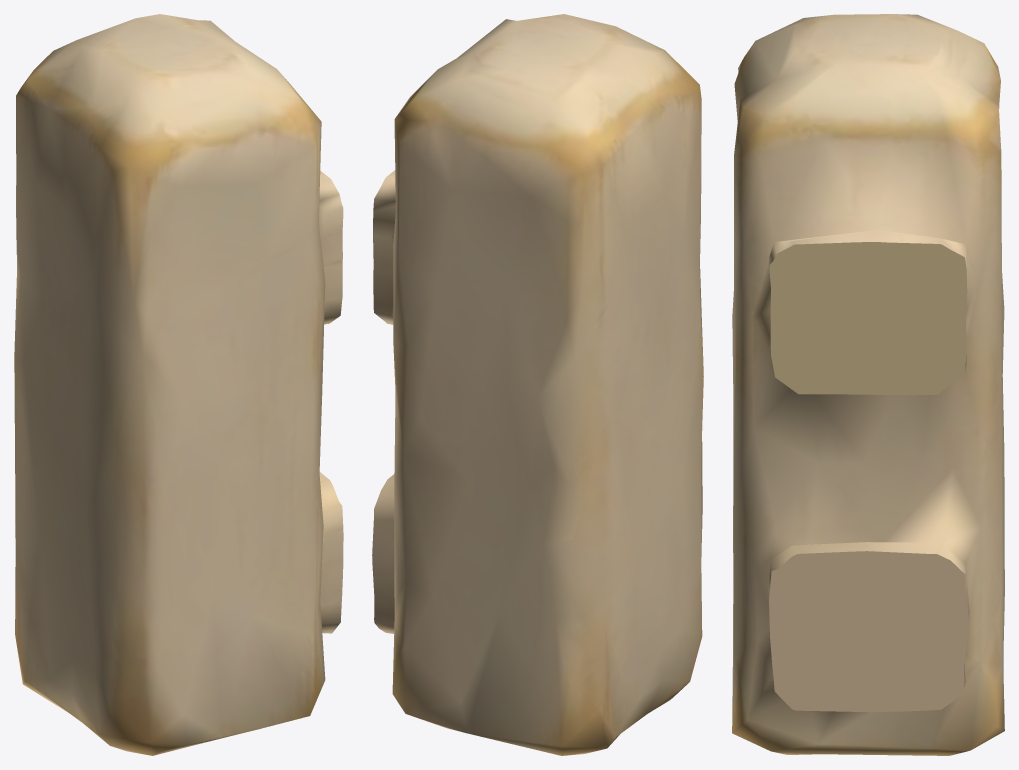
Rendered from fence-post.glb.
The picture shows the model from 3 angles, left to right: view 1: azimuth 30°, elevation 25°; view 2: azimuth 150°, elevation 25°; view 3: azimuth 270°, elevation 25°; orthographic projection. The views are drawn at different scales.
Visible parts, largest first — view 1: tripo_node_55770d52-07b5-4ddc-9917-7e2108ed7f3b; view 2: tripo_node_55770d52-07b5-4ddc-9917-7e2108ed7f3b; view 3: tripo_node_55770d52-07b5-4ddc-9917-7e2108ed7f3b.
Boxes of the visible parts, x1,y1,x2,y2 form: tripo_node_55770d52-07b5-4ddc-9917-7e2108ed7f3b: (14, 14, 343, 755); tripo_node_55770d52-07b5-4ddc-9917-7e2108ed7f3b: (372, 14, 703, 755); tripo_node_55770d52-07b5-4ddc-9917-7e2108ed7f3b: (732, 14, 1004, 755).
Size of the model in its own units: 0.2991 by 0.8 by 0.292.
1 material, 1 textured.
